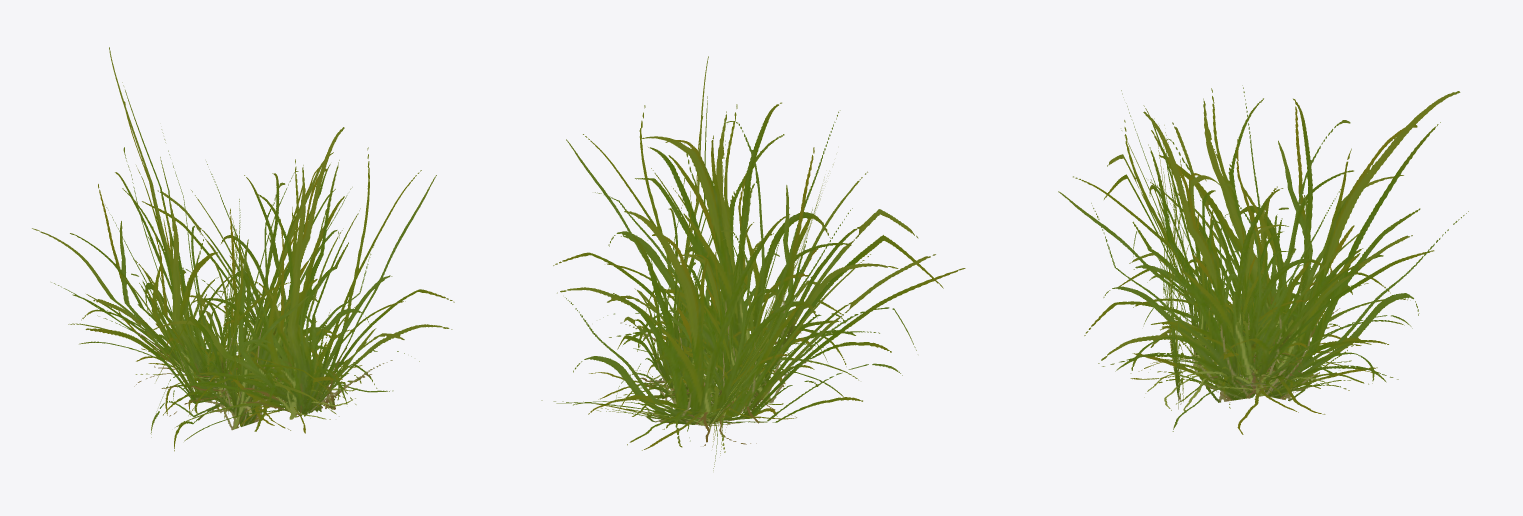
File: grass_clump_a.glb
3 views of the same model, side by side, from view 1: azimuth 30°, elevation 25°; view 2: azimuth 150°, elevation 25°; view 3: azimuth 270°, elevation 25° (orthographic). The views are drawn at different scales.
Parts seen in each view (by area): view 1: grass_clump_a; view 2: grass_clump_a; view 3: grass_clump_a.
Part boxes in pixels (left/top/right/bottom): grass_clump_a: left=32, top=47, right=454, bottom=451; grass_clump_a: left=541, top=56, right=965, bottom=470; grass_clump_a: left=1058, top=85, right=1468, bottom=434.
Size of the model in its own units: 1.52 by 1.2 by 1.48.
1 material, 1 textured.
